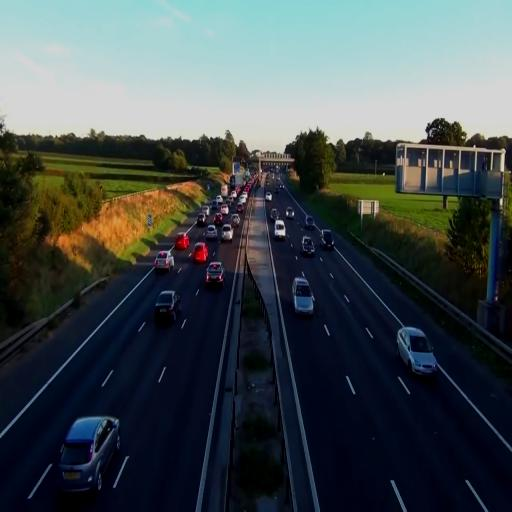vehicle: (56, 415, 120, 497), (396, 326, 437, 378), (154, 289, 181, 325), (292, 275, 314, 316), (206, 261, 224, 289), (154, 250, 172, 274), (192, 242, 209, 264), (174, 232, 190, 252), (301, 234, 315, 256), (274, 219, 286, 239), (321, 230, 333, 249), (221, 224, 233, 242)
